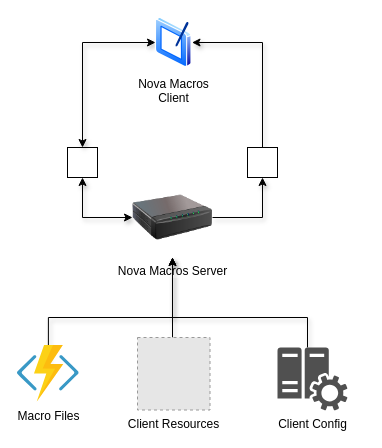
Image size: 382x448. Some labels were removed from this diagram. Grey dashed boxes stand in for pictures. Each missing label, with the centre of its shape:
"Commands Port" goes at point 82,162.
"Resources Port" goes at point 262,162.
